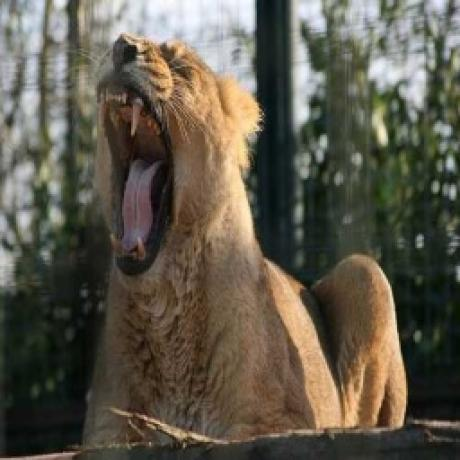Lion: (74, 32, 412, 446)
